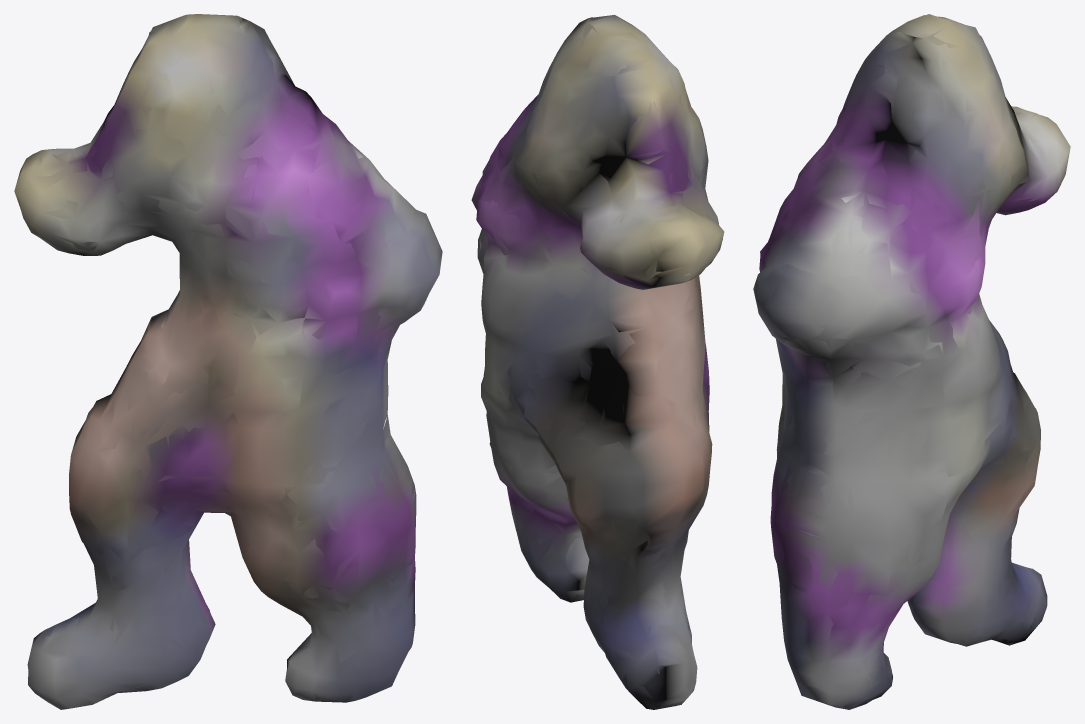
File: yuri_psi_commando.glb
3 renders of one model, left to right at view 1: azimuth 30°, elevation 25°; view 2: azimuth 150°, elevation 25°; view 3: azimuth 270°, elevation 25°, orthographic. The views are drawn at different scales.
Parts seen in each view (by area): view 1: yuri_clone; view 2: yuri_clone; view 3: yuri_clone.
Part boxes in pixels (x1,y1,x2,y2): yuri_clone: (14, 14, 442, 709); yuri_clone: (471, 15, 724, 709); yuri_clone: (753, 14, 1070, 709).
Bounding box in the file's own units: 1.1 × 2.22 × 0.964.
